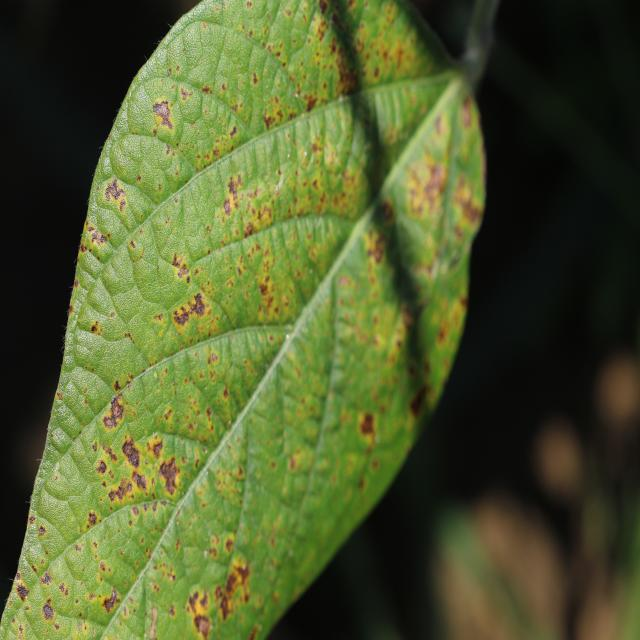Bacterial_Blight: (412, 257, 473, 403), (114, 127, 187, 209), (292, 14, 353, 104), (455, 0, 506, 87), (104, 265, 160, 336), (368, 13, 425, 82), (403, 147, 449, 223), (251, 241, 292, 314), (209, 204, 265, 255), (276, 126, 325, 176), (170, 279, 221, 326), (146, 89, 191, 142), (238, 189, 277, 235), (185, 585, 215, 638), (219, 171, 248, 223), (222, 559, 250, 609), (453, 179, 481, 229), (213, 465, 244, 506), (95, 440, 122, 482), (365, 222, 389, 264), (103, 176, 129, 214), (427, 243, 453, 280), (288, 99, 324, 125), (264, 95, 289, 129), (157, 457, 179, 495), (357, 410, 377, 451), (102, 394, 126, 428), (121, 437, 144, 471), (152, 557, 177, 585), (288, 446, 312, 475), (109, 477, 134, 504), (409, 387, 428, 418), (13, 572, 31, 604), (49, 427, 71, 452), (285, 323, 311, 344), (102, 587, 120, 614), (146, 435, 164, 460), (171, 251, 189, 276), (460, 96, 473, 130), (379, 199, 395, 225), (218, 594, 231, 621), (173, 307, 191, 326), (133, 470, 148, 491), (42, 599, 56, 621), (90, 228, 106, 247), (39, 570, 54, 588), (149, 606, 159, 628), (246, 625, 260, 640), (77, 619, 90, 635), (179, 86, 192, 101), (90, 320, 103, 335), (304, 96, 317, 111), (222, 198, 232, 216), (110, 177, 120, 195), (224, 536, 234, 554), (258, 282, 269, 297), (87, 511, 98, 526), (59, 583, 69, 598), (96, 460, 107, 473), (318, 1, 329, 14), (125, 375, 134, 388), (112, 379, 121, 392), (38, 525, 47, 537), (229, 125, 237, 138), (201, 85, 211, 95), (18, 624, 25, 638), (164, 408, 172, 420), (169, 604, 176, 617), (124, 332, 133, 342), (56, 391, 64, 402), (252, 71, 258, 85), (223, 386, 229, 399), (129, 239, 136, 250), (99, 561, 106, 572), (108, 490, 115, 501), (28, 515, 36, 524), (31, 564, 38, 574), (92, 441, 98, 452), (221, 82, 227, 92), (75, 544, 82, 552), (167, 67, 172, 76)
Soybean: (0, 0, 494, 640)
